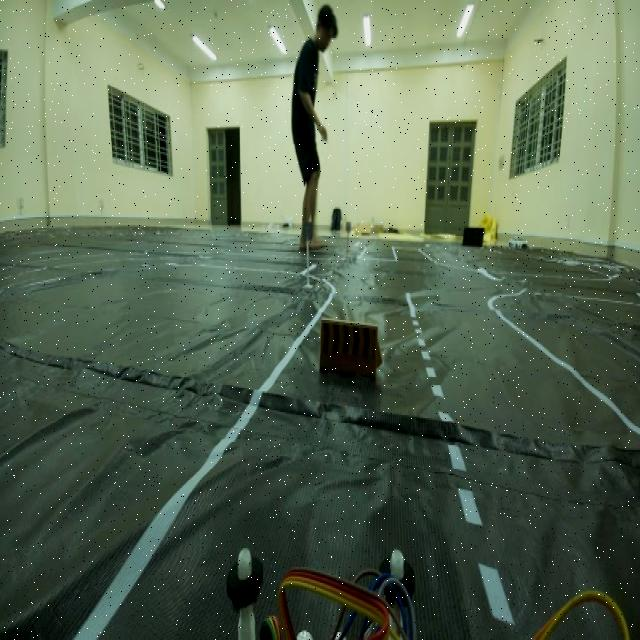roadblock: (314, 305, 388, 400)
